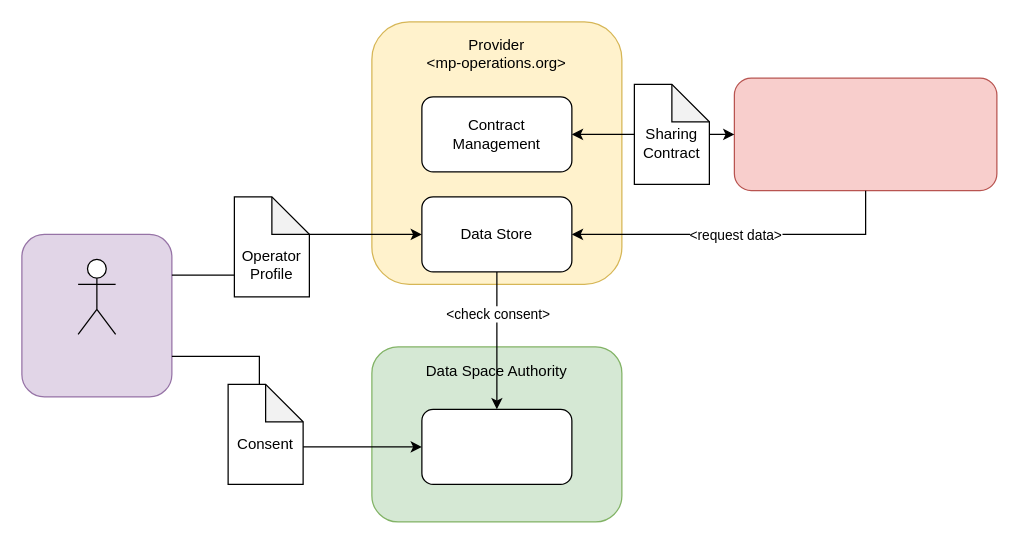
The diagram is 1019 pixels wide and 544 high, and some of its shapes have lost their labels. The shapes that lost their labels are listed below. From the top down, each one's centre as x and y in pixels, then its label:
At point (865, 134): "Consumer <fancy-marketplace.biz>".
At point (96, 296): "Data Subject <Mipa Operator>".
At point (496, 446): "Consent Manager".
